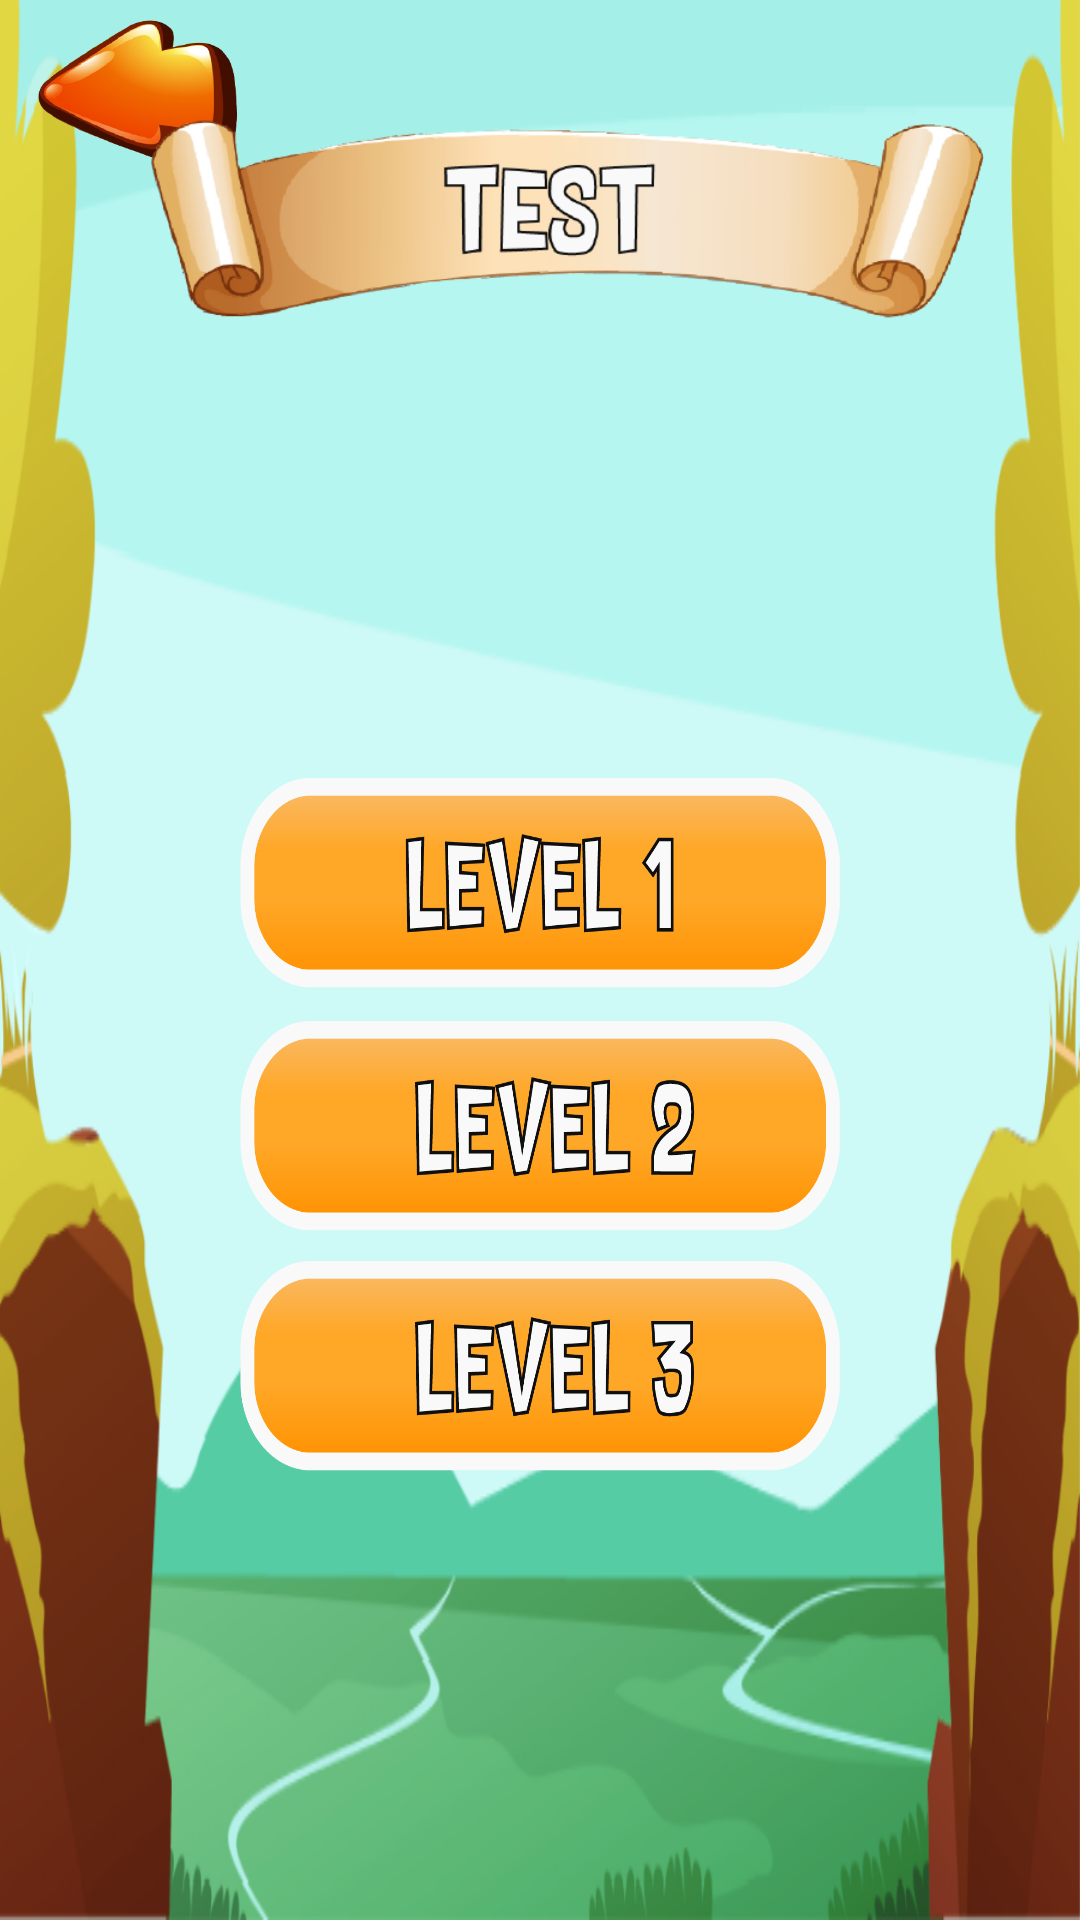

Icon click points for this 1080px×1920px phone screenshot, format (x=x, y=y):
back: (x=150, y=90)
